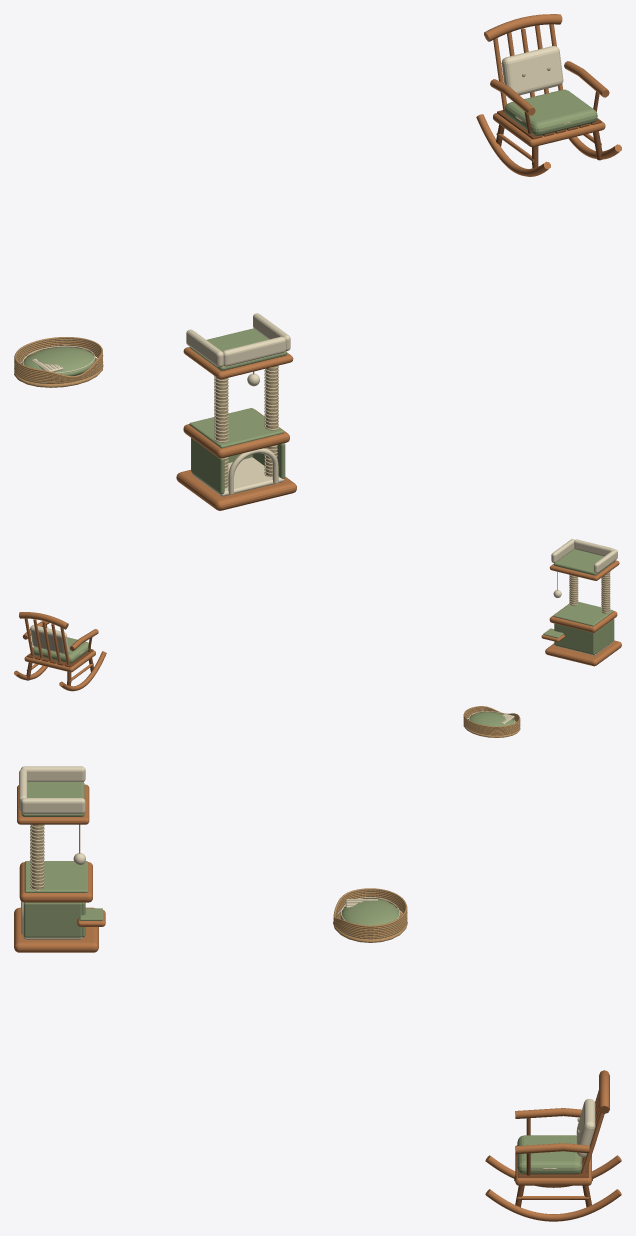
Rendered from cozy-props.glb.
3 renders of one model, top to bottom at view 1: azimuth 30°, elevation 25°; view 2: azimuth 150°, elevation 25°; view 3: azimuth 270°, elevation 25°, orthographic. The views are drawn at different scales.
Parts seen in each view (by area): view 1: Rocker seat cushion, Rocker oatmeal back pillow, Tower solid oak plinth, Tower hideout roof mat, Bed soft cushion, Tower hideout side, Tower hideout roof step, Tower rounded hideout floor, Tower upper upholstered perch, Tower upper back bolster, Tower upper oak perch, Rocker seat frame (+7 smaller); view 2: Tower hideout back, Tower solid oak plinth, Tower hideout roof mat, Tower upper upholstered perch, Rocker oatmeal back pillow, Rocker seat cushion, Tower hideout roof step, Bed soft cushion, Tower hideout side, Rocker seat frame, Tower upper oak perch, Tower upper back bolster (+4 smaller); view 3: Tower hideout side.001, Rocker seat cushion, Tower hideout roof mat, Tower solid oak plinth, Bed soft cushion, Rocker curved runner.001, Tower upper upholstered perch, Tower upper soft side bolster.001, Tower hideout roof step, Tower upper soft side bolster, Tower upper oak perch, Rocker seat frame (+5 smaller).
Part boxes in pixels (<box>): Rocker seat cushion: <box>504,89,597,135</box>; Rocker oatmeal back pillow: <box>501,46,563,95</box>; Tower solid oak plinth: <box>176,470,296,510</box>; Tower hideout roof mat: <box>189,408,283,448</box>; Bed soft cushion: <box>22,347,95,375</box>; Tower hideout side: <box>191,438,224,494</box>; Tower hideout roof step: <box>183,409,289,458</box>; Tower rounded hideout floor: <box>192,457,284,496</box>; Tower upper upholstered perch: <box>190,328,286,370</box>; Tower upper back bolster: <box>222,336,285,366</box>; Tower upper oak perch: <box>183,347,293,379</box>; Rocker seat frame: <box>493,113,605,147</box>; Tower hideout back: <box>554,623,595,654</box>; Tower solid oak plinth: <box>545,640,621,666</box>; Tower hideout roof mat: <box>553,602,613,626</box>; Tower upper upholstered perch: <box>553,549,615,575</box>; Rocker oatmeal back pillow: <box>30,625,69,654</box>; Rocker seat cushion: <box>33,637,90,663</box>; Tower hideout roof step: <box>549,603,617,632</box>; Bed soft cushion: <box>468,712,515,726</box>; Tower hideout side: <box>595,619,614,653</box>; Rocker seat frame: <box>24,650,95,672</box>; Tower upper oak perch: <box>549,560,619,580</box>; Tower upper back bolster: <box>574,539,614,556</box>; Tower hideout side.001: <box>23,902,81,937</box>; Rocker seat cushion: <box>517,1135,582,1174</box>; Tower hideout roof mat: <box>24,861,87,892</box>; Tower solid oak plinth: <box>14,907,98,952</box>; Bed soft cushion: <box>340,898,400,925</box>; Rocker curved runner.001: <box>485,1189,621,1221</box>; Tower upper upholstered perch: <box>21,782,84,816</box>; Tower upper soft side bolster.001: <box>20,798,85,814</box>; Tower hideout roof step: <box>19,862,92,902</box>; Tower upper soft side bolster: <box>21,766,85,781</box>; Tower upper oak perch: <box>17,784,89,824</box>; Rocker seat frame: <box>515,1145,591,1185</box>.
Bounding box in the file's own units: 9 × 2.03 × 7.3.
